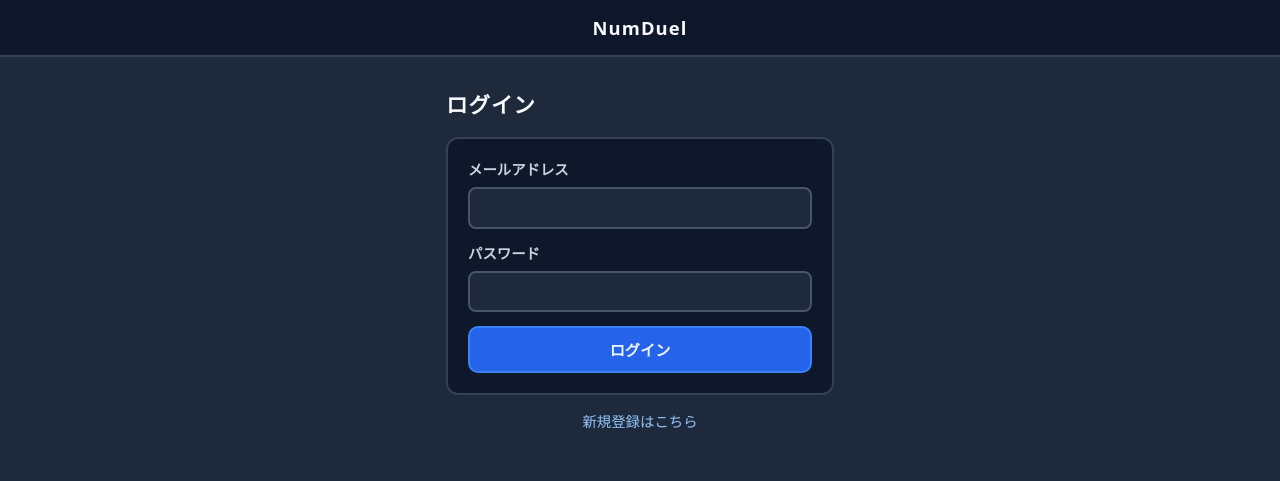
Test: LoginPage › shows unauthorized message
Type "user@test.local" into the field labelled "メールアドレス". click: coordinates (640, 208)
box: top-left (468, 187), bottom-right (812, 229)
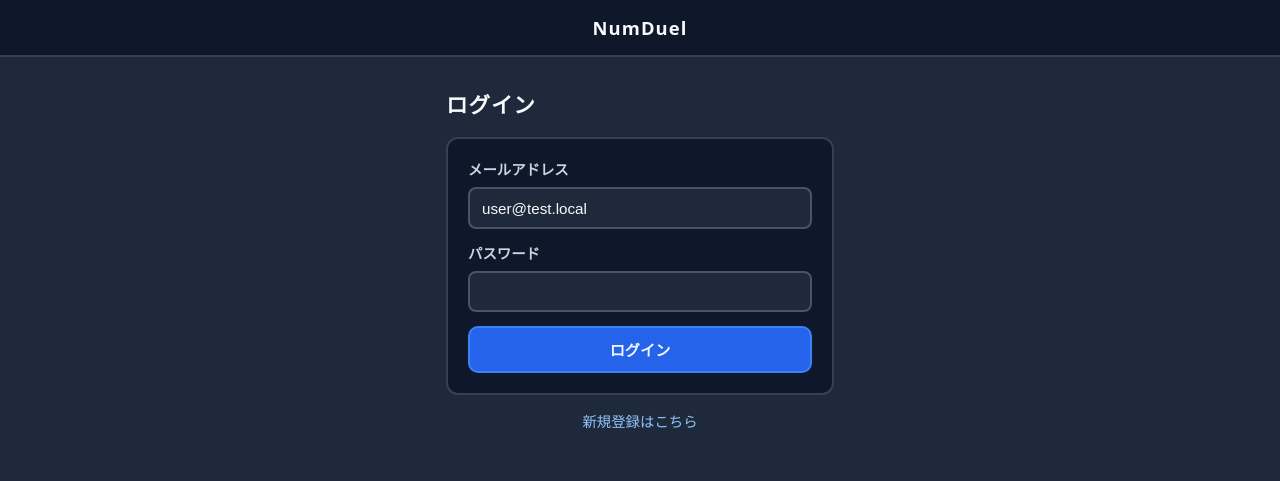
Type "password123" into the password field labelled "パスワード". click: coordinates (640, 292)
box: top-left (468, 271), bottom-right (812, 312)
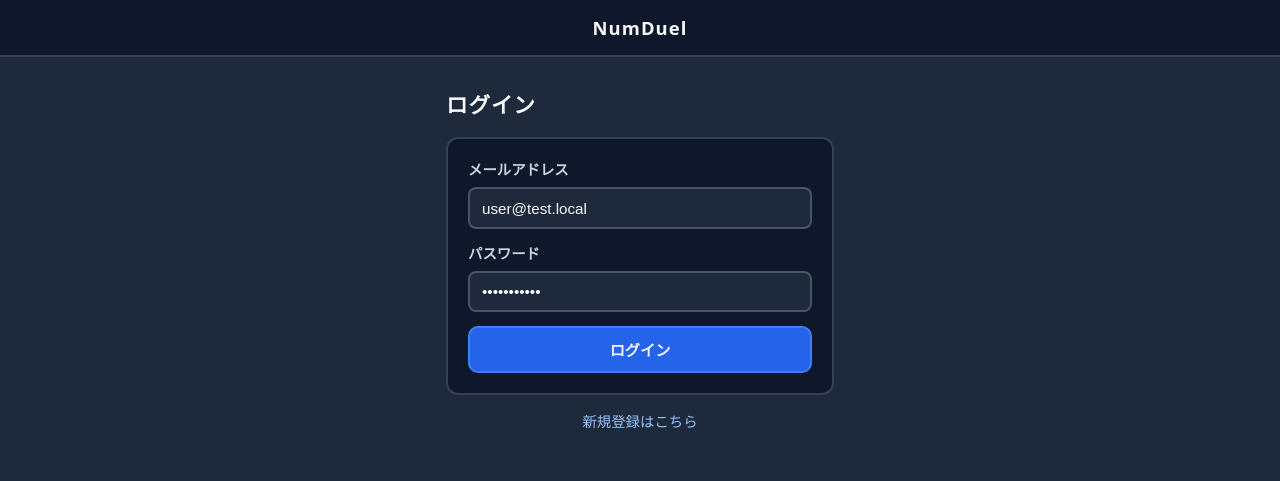
Click the button "ログイン". click: coordinates (640, 349)
box: top-left (468, 326), bottom-right (812, 373)
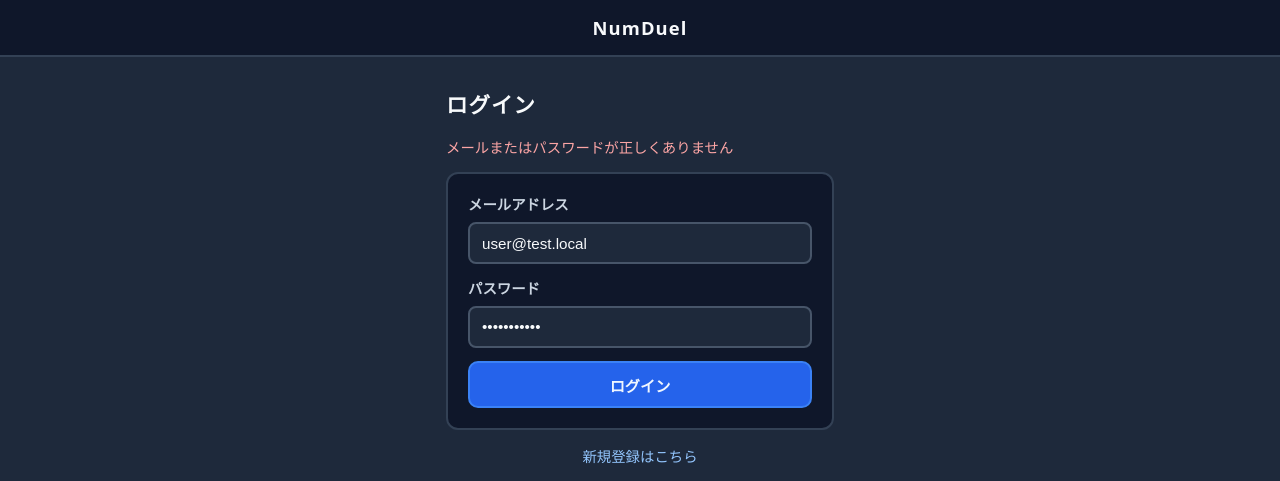
Expected: the text "メールまたはパスワードが正しくありません" is shown, top-left (446, 138), bottom-right (733, 157)
